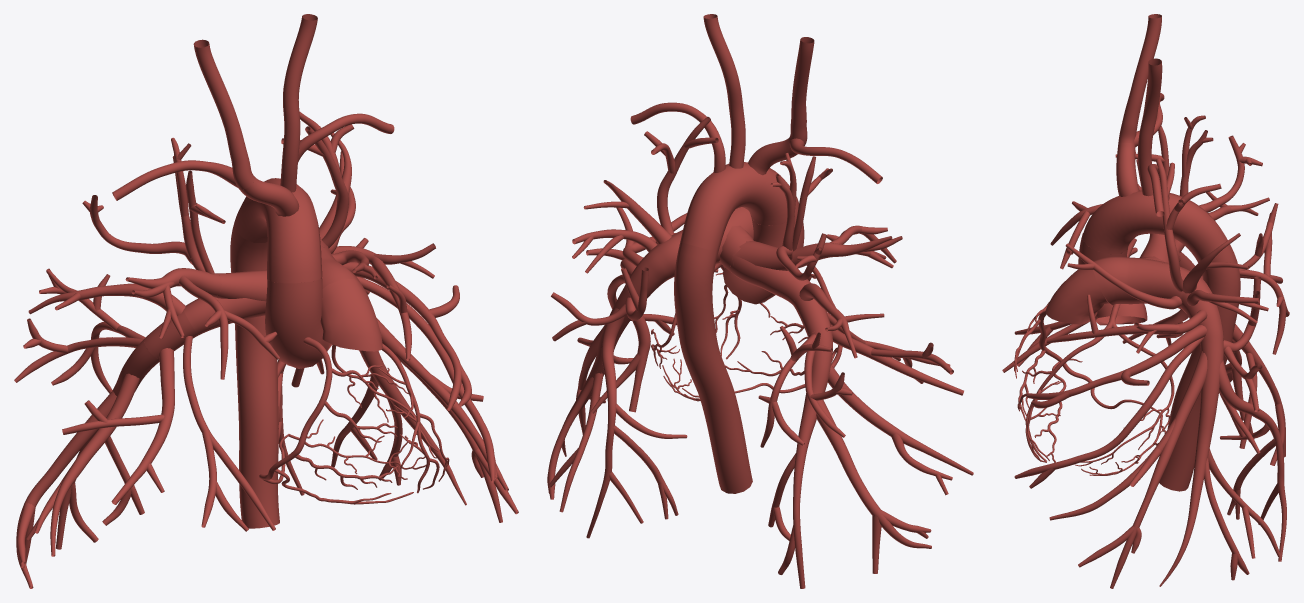
The model's file is thorax-arteries-mobile.glb.
3 renders of one model, left to right at view 1: azimuth 30°, elevation 25°; view 2: azimuth 150°, elevation 25°; view 3: azimuth 270°, elevation 25°, orthographic. The views are drawn at different scales.
Parts seen in each view (by area): view 1: za.thoracic-aorta, za.aortic-arch, za.ascending-aorta, za.anterior-segmental-artery-of-right-lung, za.apical-segmental-artery-of-right-lung, za.pulmonary-trunk, za.superior-segmental-artery-of-right-lung, za.right-coronary-artery, za.lateral-basal-segmental-artery-of-left-lung, za.lateral-segmental-artery-of-right-lung, za.left-common-carotid-artery, za.medial-segmental-artery-of-right-lung (+24 smaller); view 2: za.thoracic-aorta, za.aortic-arch, za.posterior-basal-segmental-artery-of-left-lung, za.superior-segmental-artery-of-right-lung, za.apical-segmental-artery-of-right-lung, za.anterior-basal-segmental-artery-of-right-lung, za.anterior-basal-segmental-artery-of-left-lung, za.posterior-segmental-artery-of-left-lung, za.left-common-carotid-artery, za.left-pulmonary-artery, za.lateral-basal-segmental-artery-of-right-lung, za.anterior-segmental-artery-of-right-lung (+22 smaller); view 3: za.aortic-arch, za.thoracic-aorta, za.lateral-basal-segmental-artery-of-left-lung, za.left-pulmonary-artery, za.anterior-basal-segmental-artery-of-left-lung, za.anterior-segmental-artery-of-left-lung, za.posterior-basal-segmental-artery-of-left-lung, za.bifurcation-of-pulmonary-trunk, za.apical-segmental-artery-of-right-lung, za.pulmonary-trunk, za.superior-lingular-artery-of-left-lung, za.inferior-lingular-artery-of-left-lung (+22 smaller).
Part boxes in pixels (box(x1,y1,x2,y2)): za.thoracic-aorta: box(230, 222, 279, 528); za.aortic-arch: box(234, 178, 322, 283); za.ascending-aorta: box(265, 277, 332, 368); za.anterior-segmental-artery-of-right-lung: box(125, 268, 279, 379); za.apical-segmental-artery-of-right-lung: box(82, 137, 225, 274); za.pulmonary-trunk: box(320, 279, 382, 351); za.superior-segmental-artery-of-right-lung: box(14, 268, 145, 393); za.right-coronary-artery: box(259, 337, 413, 504); za.lateral-basal-segmental-artery-of-left-lung: box(376, 318, 518, 522); za.lateral-segmental-artery-of-right-lung: box(62, 348, 174, 504); za.left-common-carotid-artery: box(280, 14, 317, 192); za.medial-segmental-artery-of-right-lung: box(183, 336, 275, 531); za.thoracic-aorta: box(674, 242, 752, 493); za.aortic-arch: box(680, 162, 798, 251); za.posterior-basal-segmental-artery-of-left-lung: box(586, 308, 687, 538); za.superior-segmental-artery-of-right-lung: box(758, 326, 853, 447); za.apical-segmental-artery-of-right-lung: box(770, 153, 832, 280); za.anterior-basal-segmental-artery-of-right-lung: box(816, 399, 931, 573); za.anterior-basal-segmental-artery-of-left-lung: box(547, 365, 604, 512); za.posterior-segmental-artery-of-left-lung: box(572, 180, 671, 273); za.left-common-carotid-artery: box(703, 14, 745, 168); za.left-pulmonary-artery: box(593, 230, 682, 371); za.lateral-basal-segmental-artery-of-right-lung: box(827, 364, 973, 495); za.anterior-segmental-artery-of-right-lung: box(791, 225, 902, 268); za.aortic-arch: box(1082, 190, 1227, 261); za.thoracic-aorta: box(1159, 244, 1240, 491); za.lateral-basal-segmental-artery-of-left-lung: box(1049, 351, 1207, 588); za.left-pulmonary-artery: box(1155, 262, 1223, 444); za.anterior-basal-segmental-artery-of-left-lung: box(1159, 443, 1281, 586); za.anterior-segmental-artery-of-left-lung: box(1046, 243, 1207, 353); za.posterior-basal-segmental-artery-of-left-lung: box(1219, 360, 1286, 561); za.bifurcation-of-pulmonary-trunk: box(1093, 256, 1165, 305); za.apical-segmental-artery-of-right-lung: box(1115, 115, 1262, 212); za.pulmonary-trunk: box(1045, 261, 1109, 324); za.superior-lingular-artery-of-left-lung: box(1027, 325, 1206, 408); za.inferior-lingular-artery-of-left-lung: box(1014, 337, 1203, 488).
Bounding box in the file's own units: 0.256 × 0.3013 × 0.1658.
